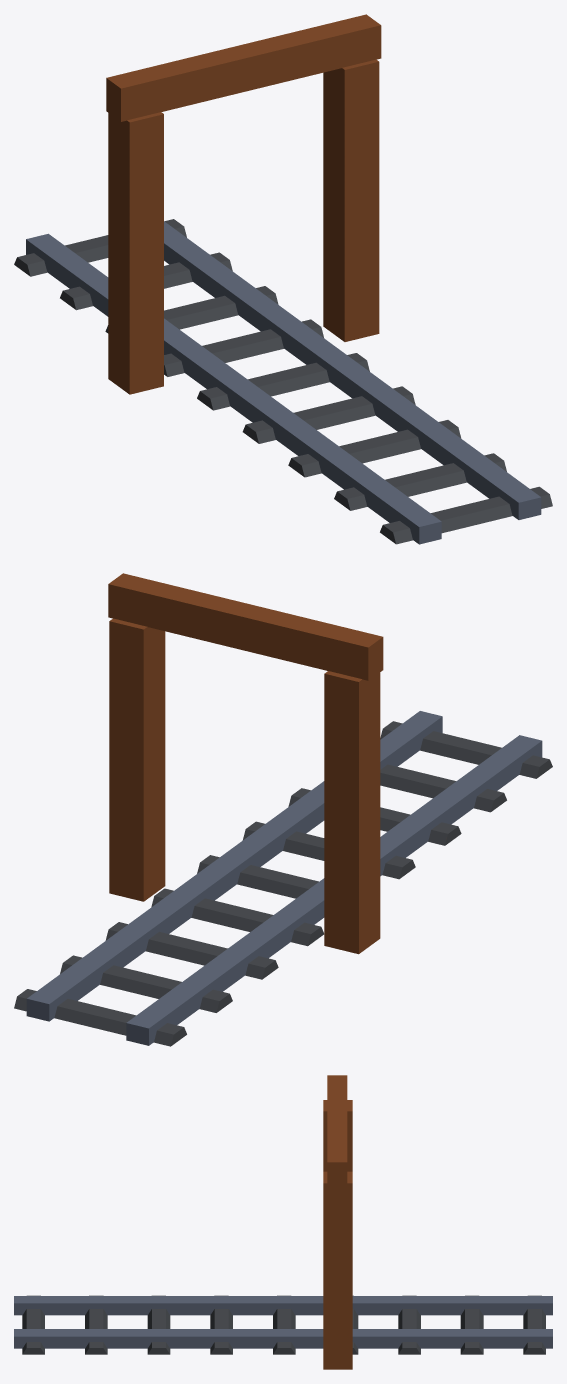
The model's file is Mine_decoration.fbx.
The picture shows the model from 3 angles, top to bottom: view 1: azimuth 30°, elevation 25°; view 2: azimuth 150°, elevation 25°; view 3: azimuth 270°, elevation 25°; orthographic projection. The views are drawn at different scales.
Parts seen in each view (by area): view 1: Mine_decoration; view 2: Mine_decoration; view 3: Mine_decoration.
Part boxes in pixels (box(x1,y1,x2,y2)): Mine_decoration: box(14, 14, 552, 544); Mine_decoration: box(14, 573, 552, 1046); Mine_decoration: box(14, 1075, 552, 1369).
Size of the model in its own units: 346 by 389 by 907.
